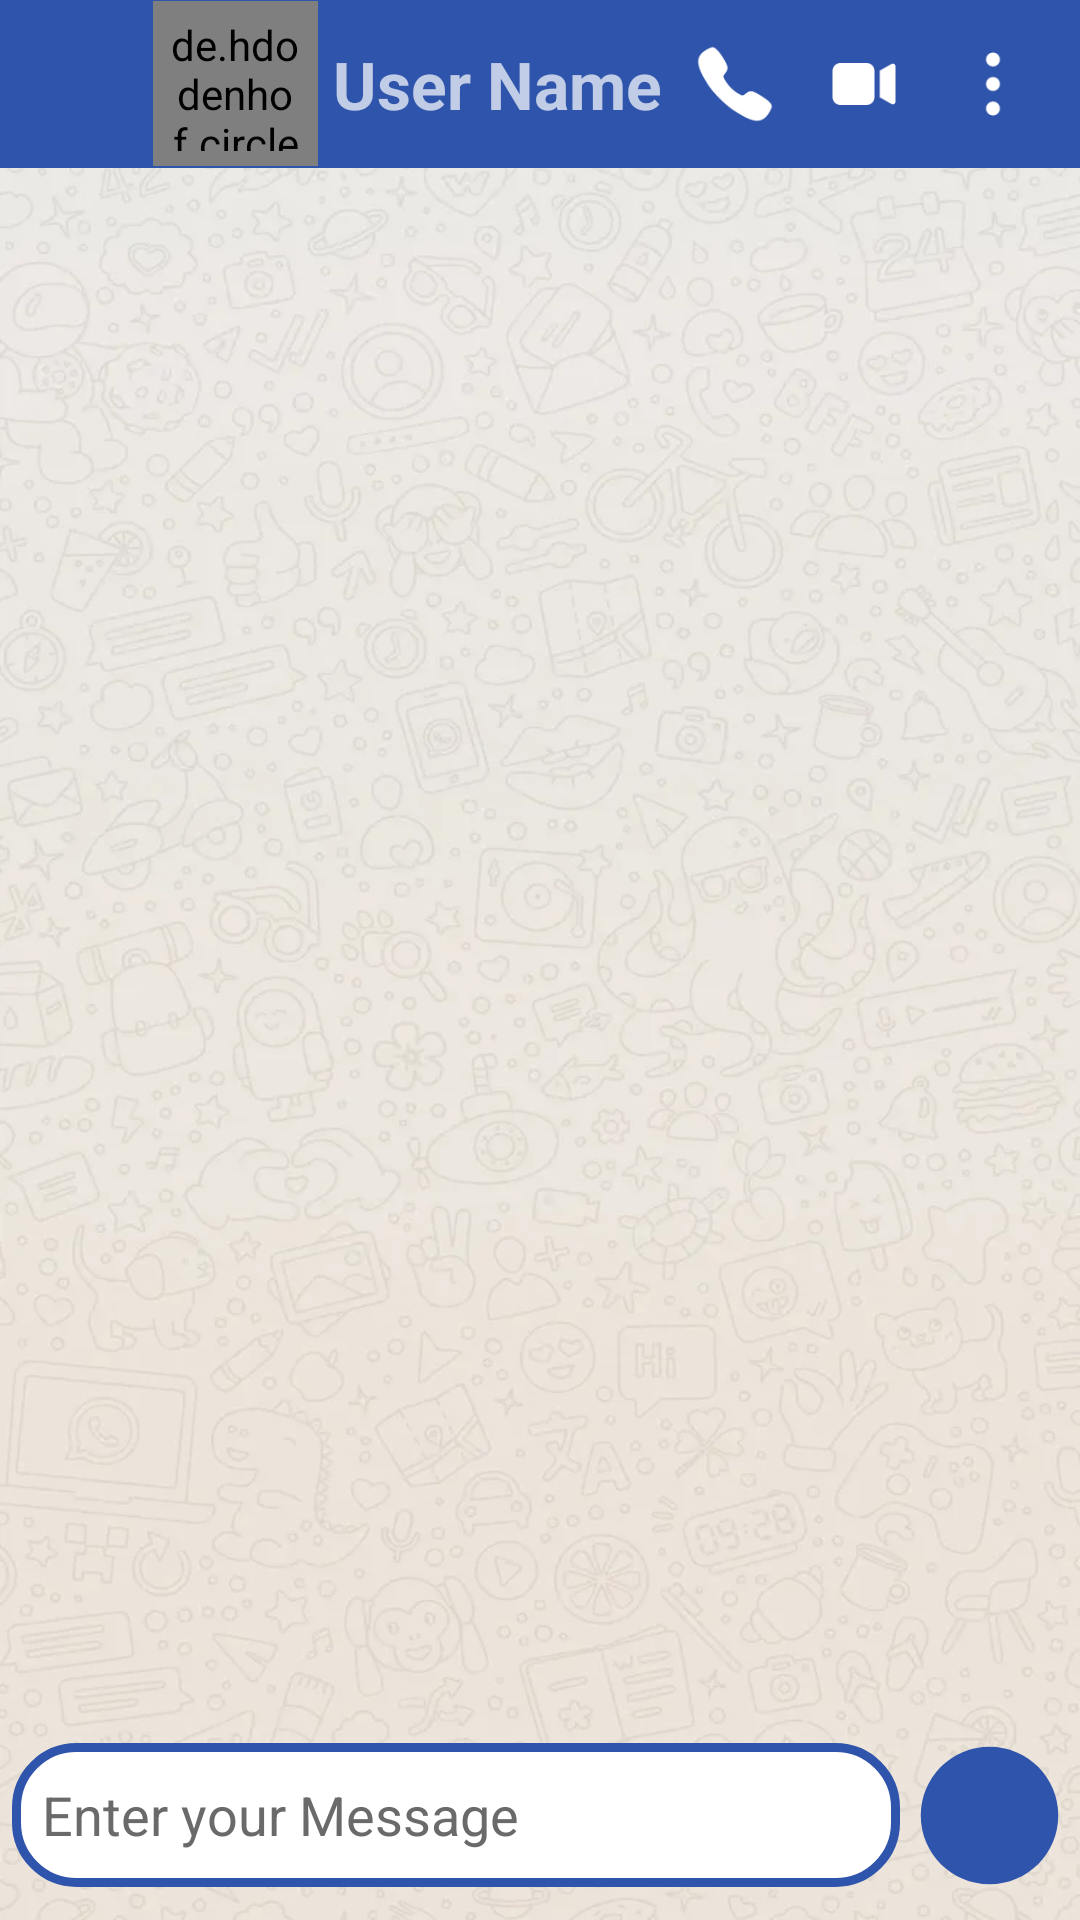

Icon click points for this 1080px×1920px phone screenshot, format point (x, y):
call: point (735, 84)
menu: point (993, 84)
video camera: point (864, 84)
